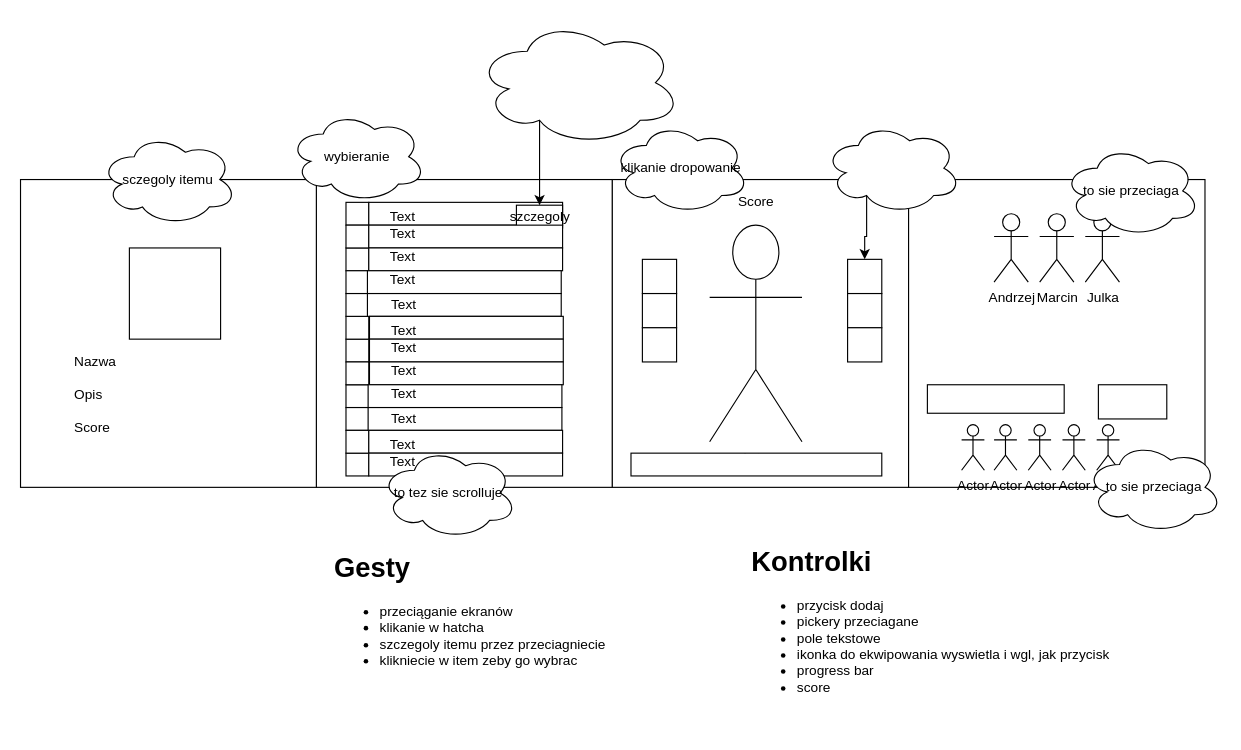
Some shapes in this 1241 by 750 pixel diagram are drawn without their labels. The shapes that lost their labels are listed below. From the top down, each one's centre as x and y in pixels, then its label:
At (578,82): "to sie przeciaga zeby szczegoly zobaczyc".
At (892,167): "przyciski z ikoną".
At (995,398): "Nazwa...".
At (1132,401): "Dodaj".
At (756,464): "progress bar".
